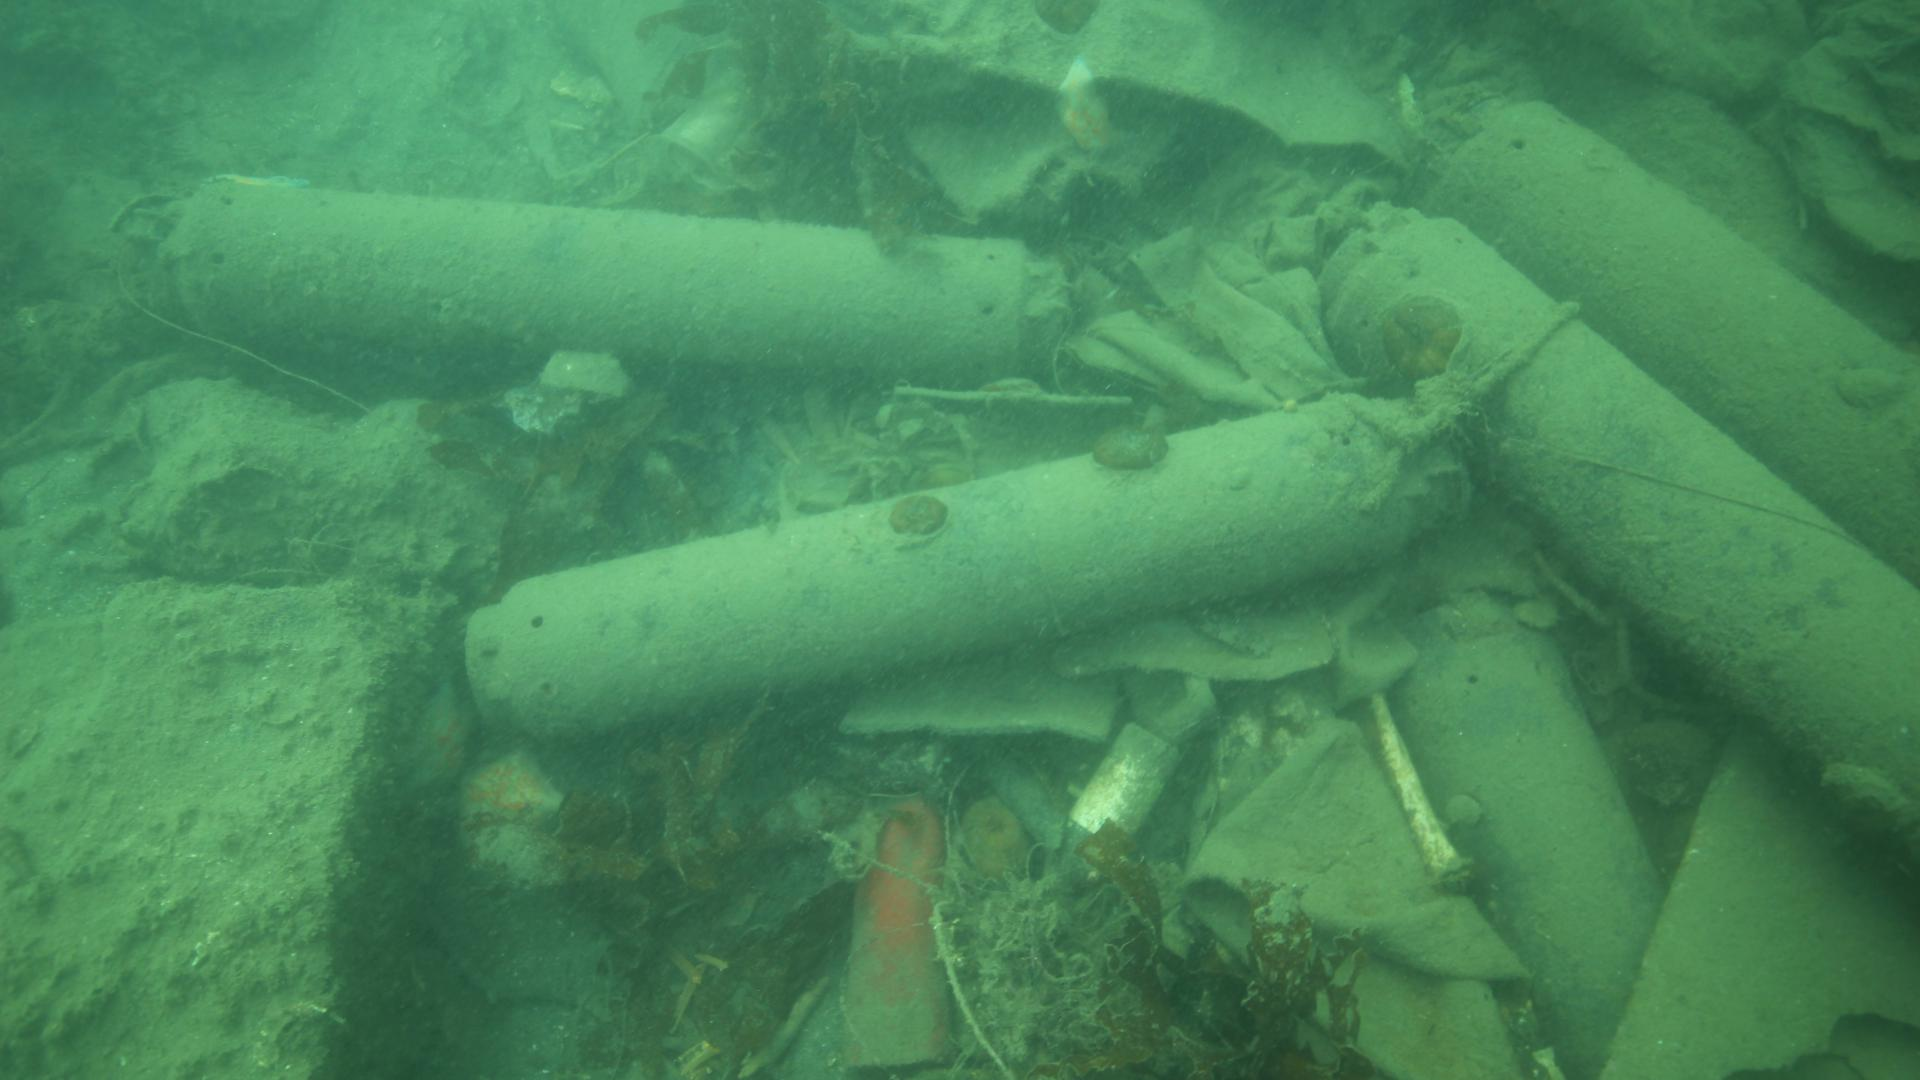bundle of ropes: (1354, 295, 1584, 517)
eel fish trap: (1315, 199, 1920, 858), (462, 382, 1474, 742), (1418, 94, 1920, 644), (158, 167, 1068, 382)
